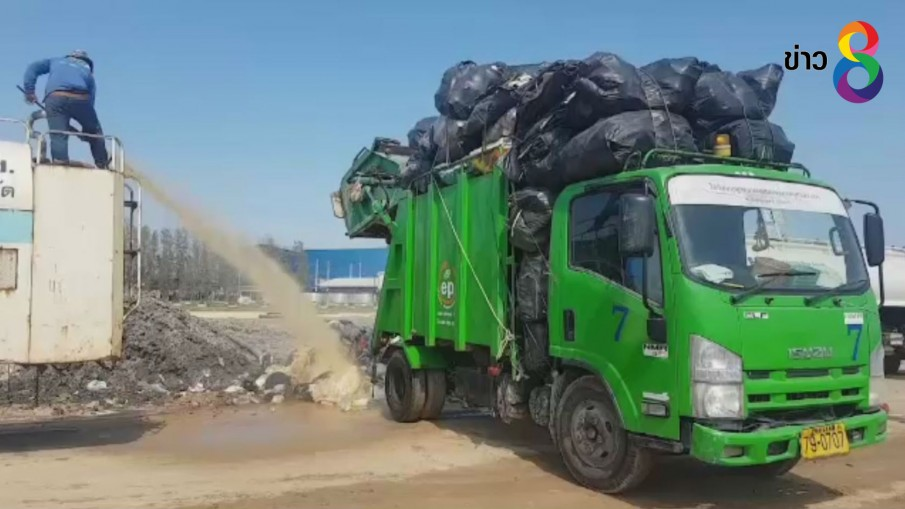truck: (550, 151, 891, 495)
